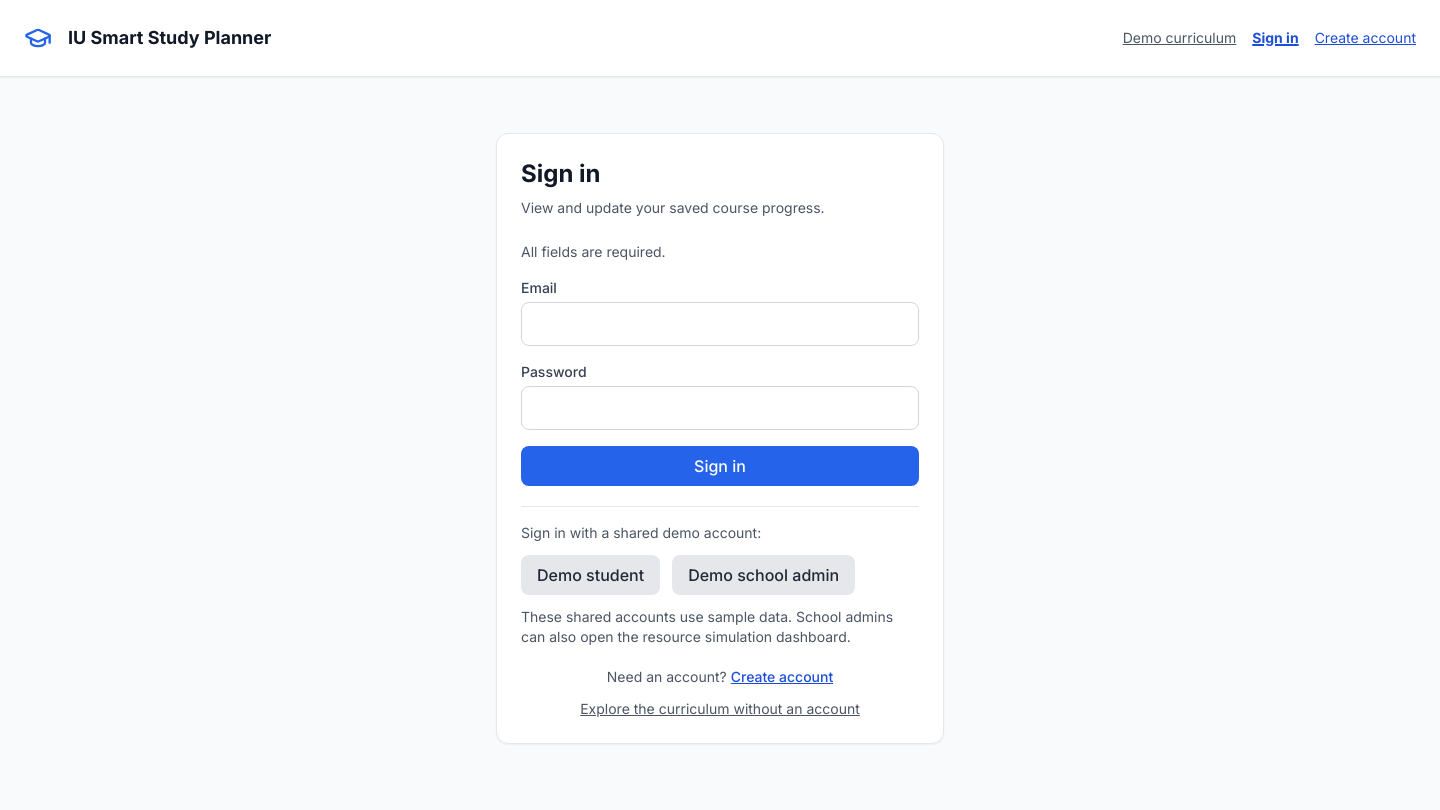
Test: authentication screens and session routing › shows demo errors and permits retry without changing the guest progress owner
Click the button "Demo student". click: (591, 575)
box: [521, 555, 660, 595]
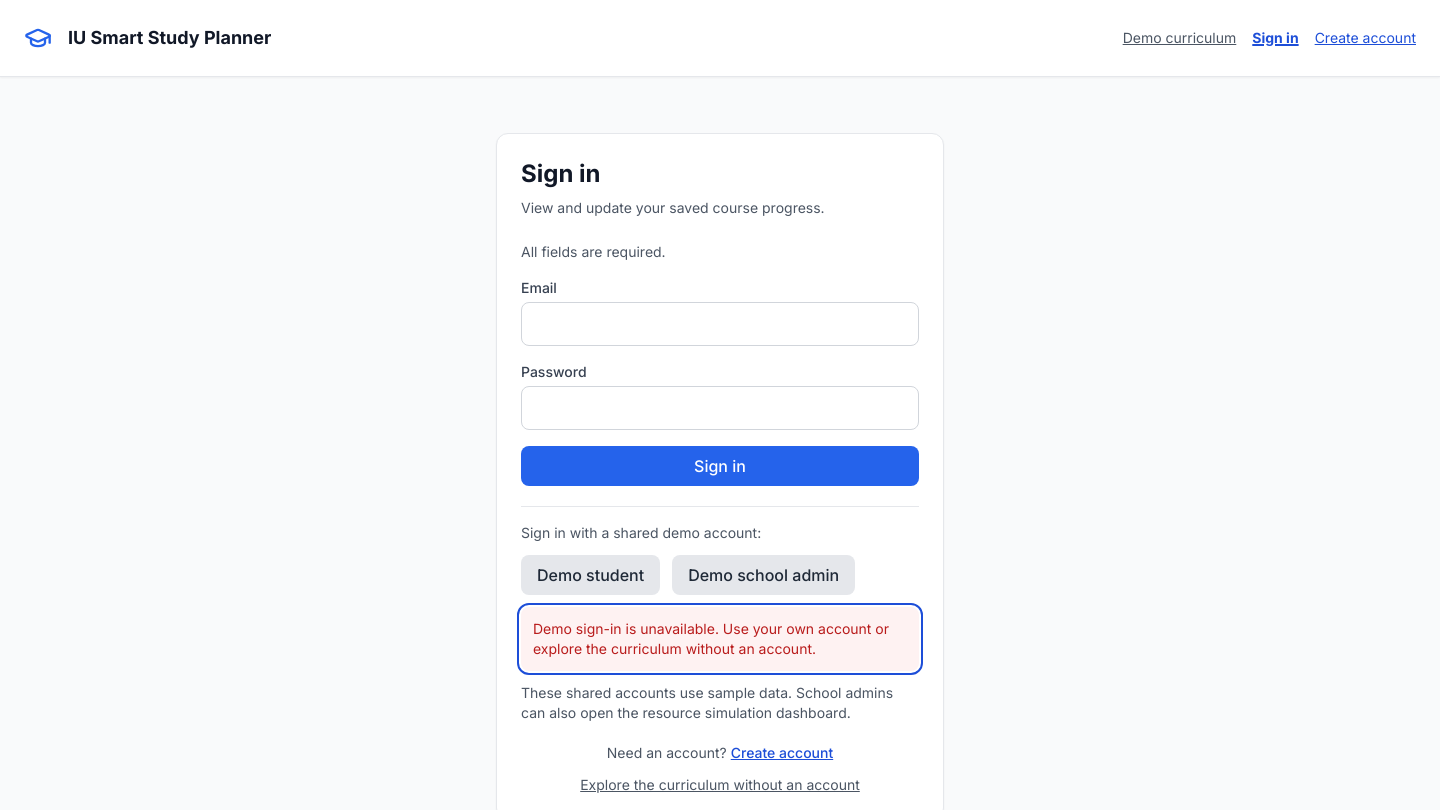
Expected: the message shows "Demo sign-in is unavailable", [533, 620, 889, 657]
Click the button "Demo student". click: (591, 575)
box: [521, 555, 660, 595]
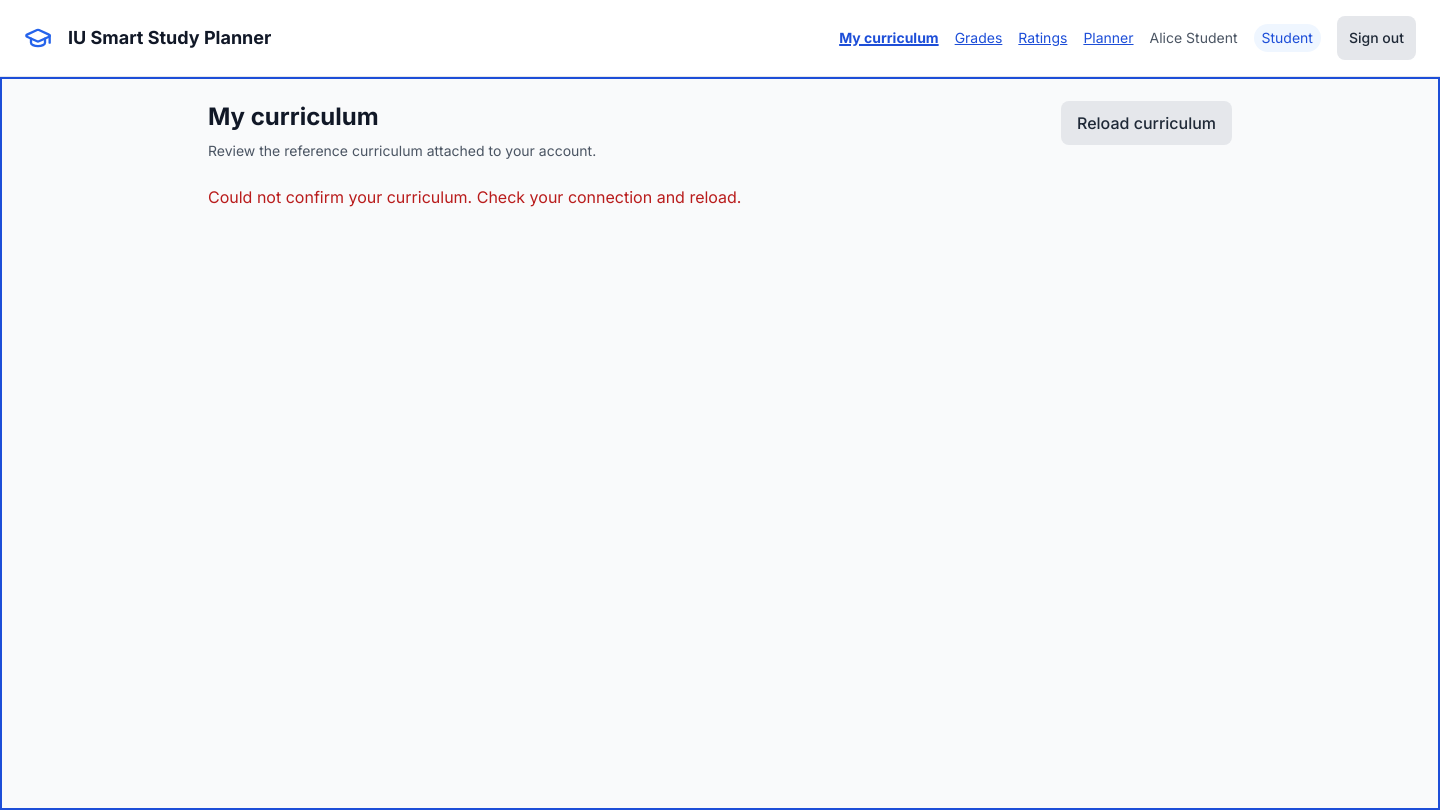
Expected: the text "Alice Student" is shown, [1150, 28, 1238, 48]
